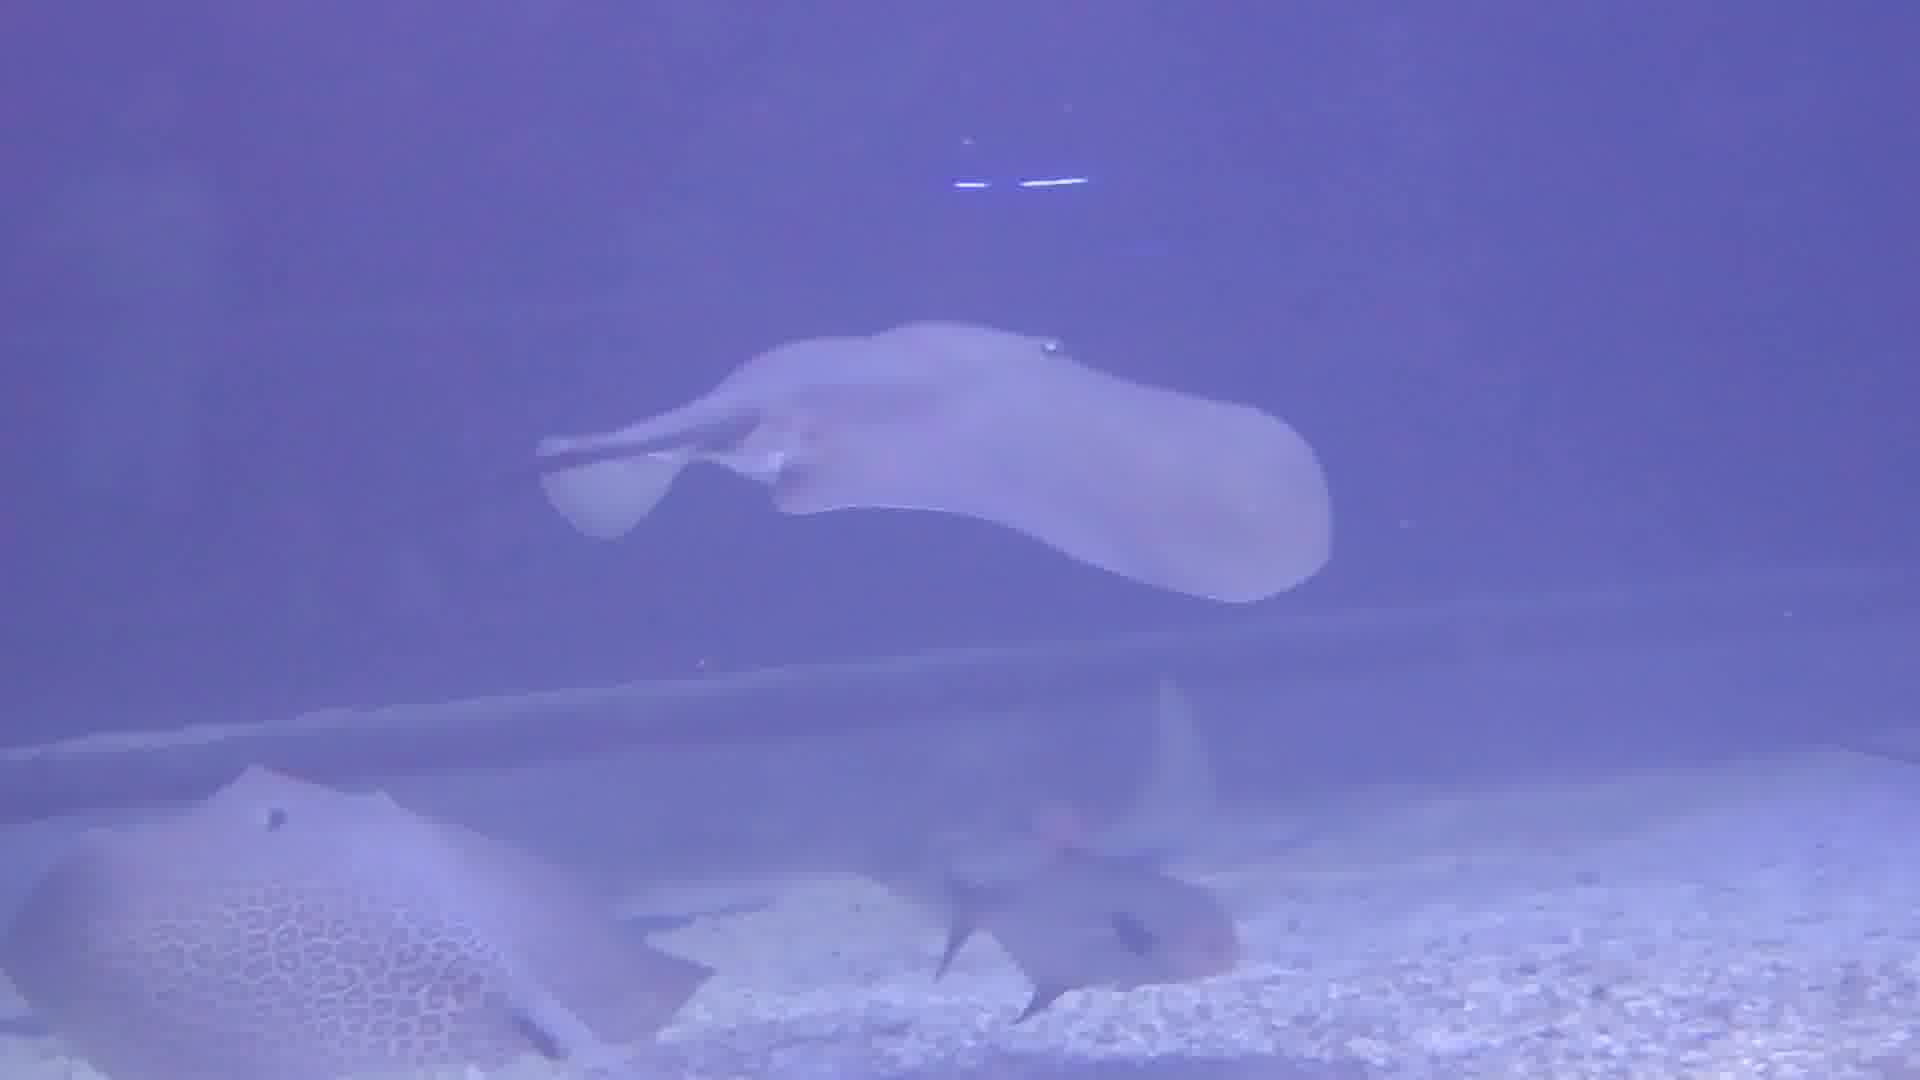Dasyatis akajei: (404, 169, 1414, 640)
